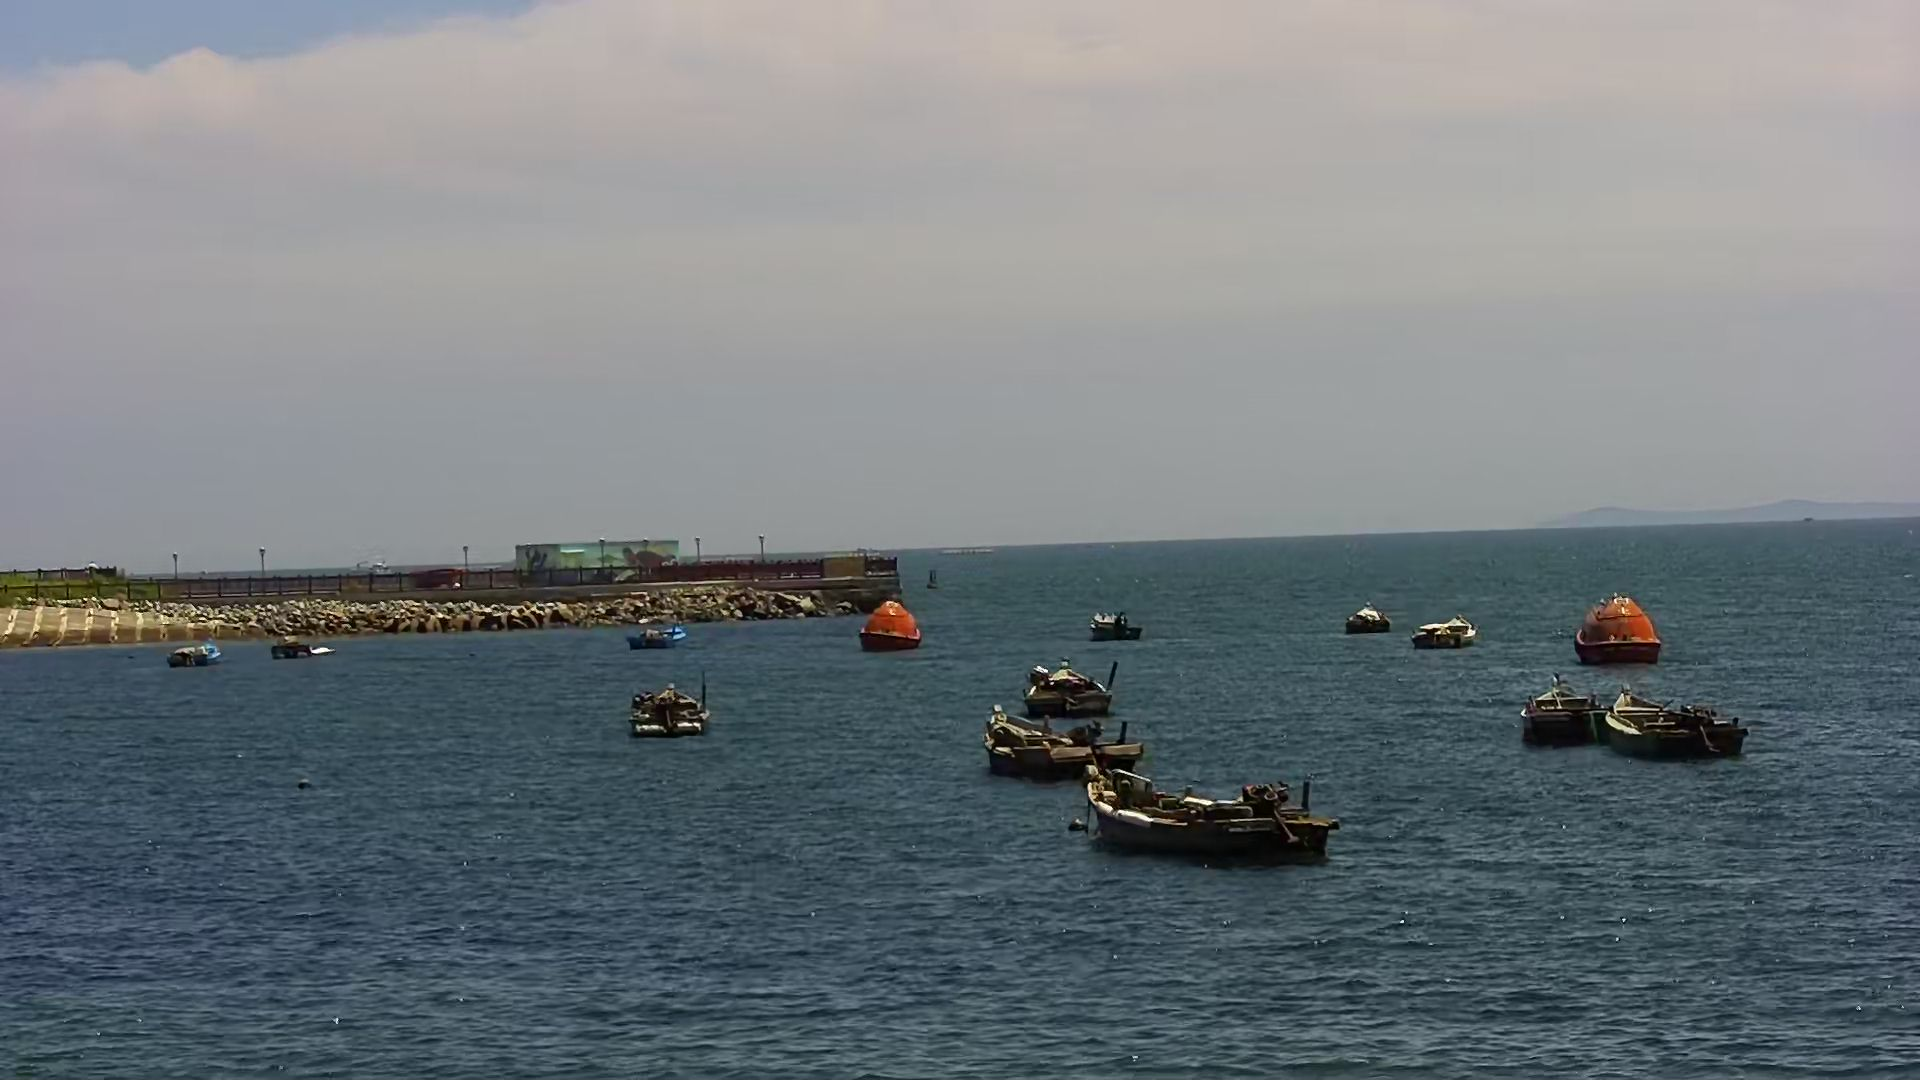ball: (291, 771, 320, 794)
boat: (1067, 750, 1344, 873), (964, 700, 1195, 774), (1601, 674, 1770, 771), (1507, 666, 1626, 758), (1555, 585, 1685, 666), (1007, 641, 1142, 719), (621, 674, 742, 746), (847, 593, 940, 663), (1404, 597, 1480, 663), (1080, 593, 1168, 646), (1327, 591, 1402, 647), (260, 628, 339, 665), (611, 621, 704, 649), (164, 638, 229, 676)
